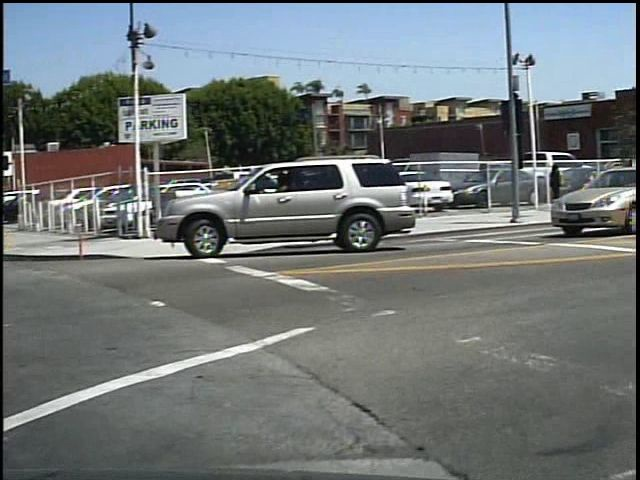person: (549, 160, 572, 216)
